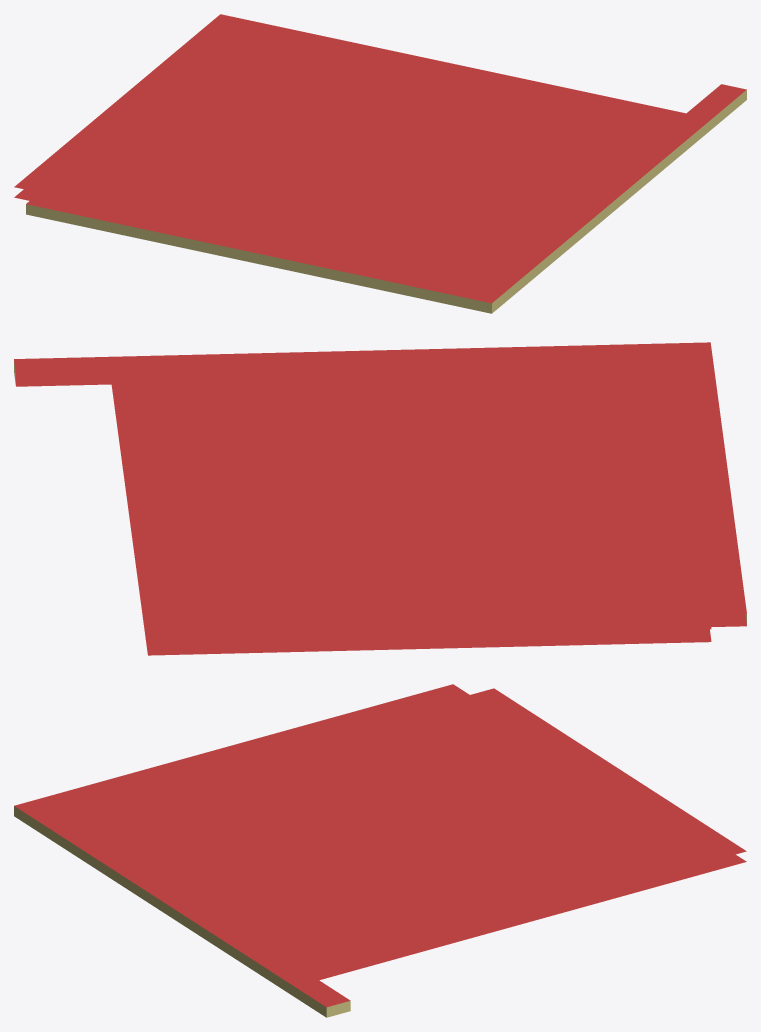
3 renders of one model, top to bottom at view 1: azimuth 30°, elevation 25°; view 2: azimuth 150°, elevation 25°; view 3: azimuth 270°, elevation 25°, orthographic. The views are drawn at different scales.
Size of the model in its own units: 6.63 by 6.36 by 0.1.
